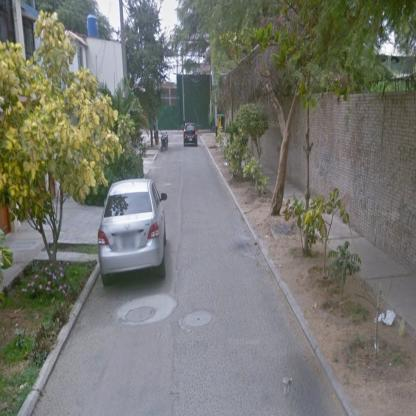Moto: (160, 130, 169, 153)
Pista: (35, 288, 346, 414)
Vehiculo: (99, 179, 168, 288), (184, 123, 199, 147)
